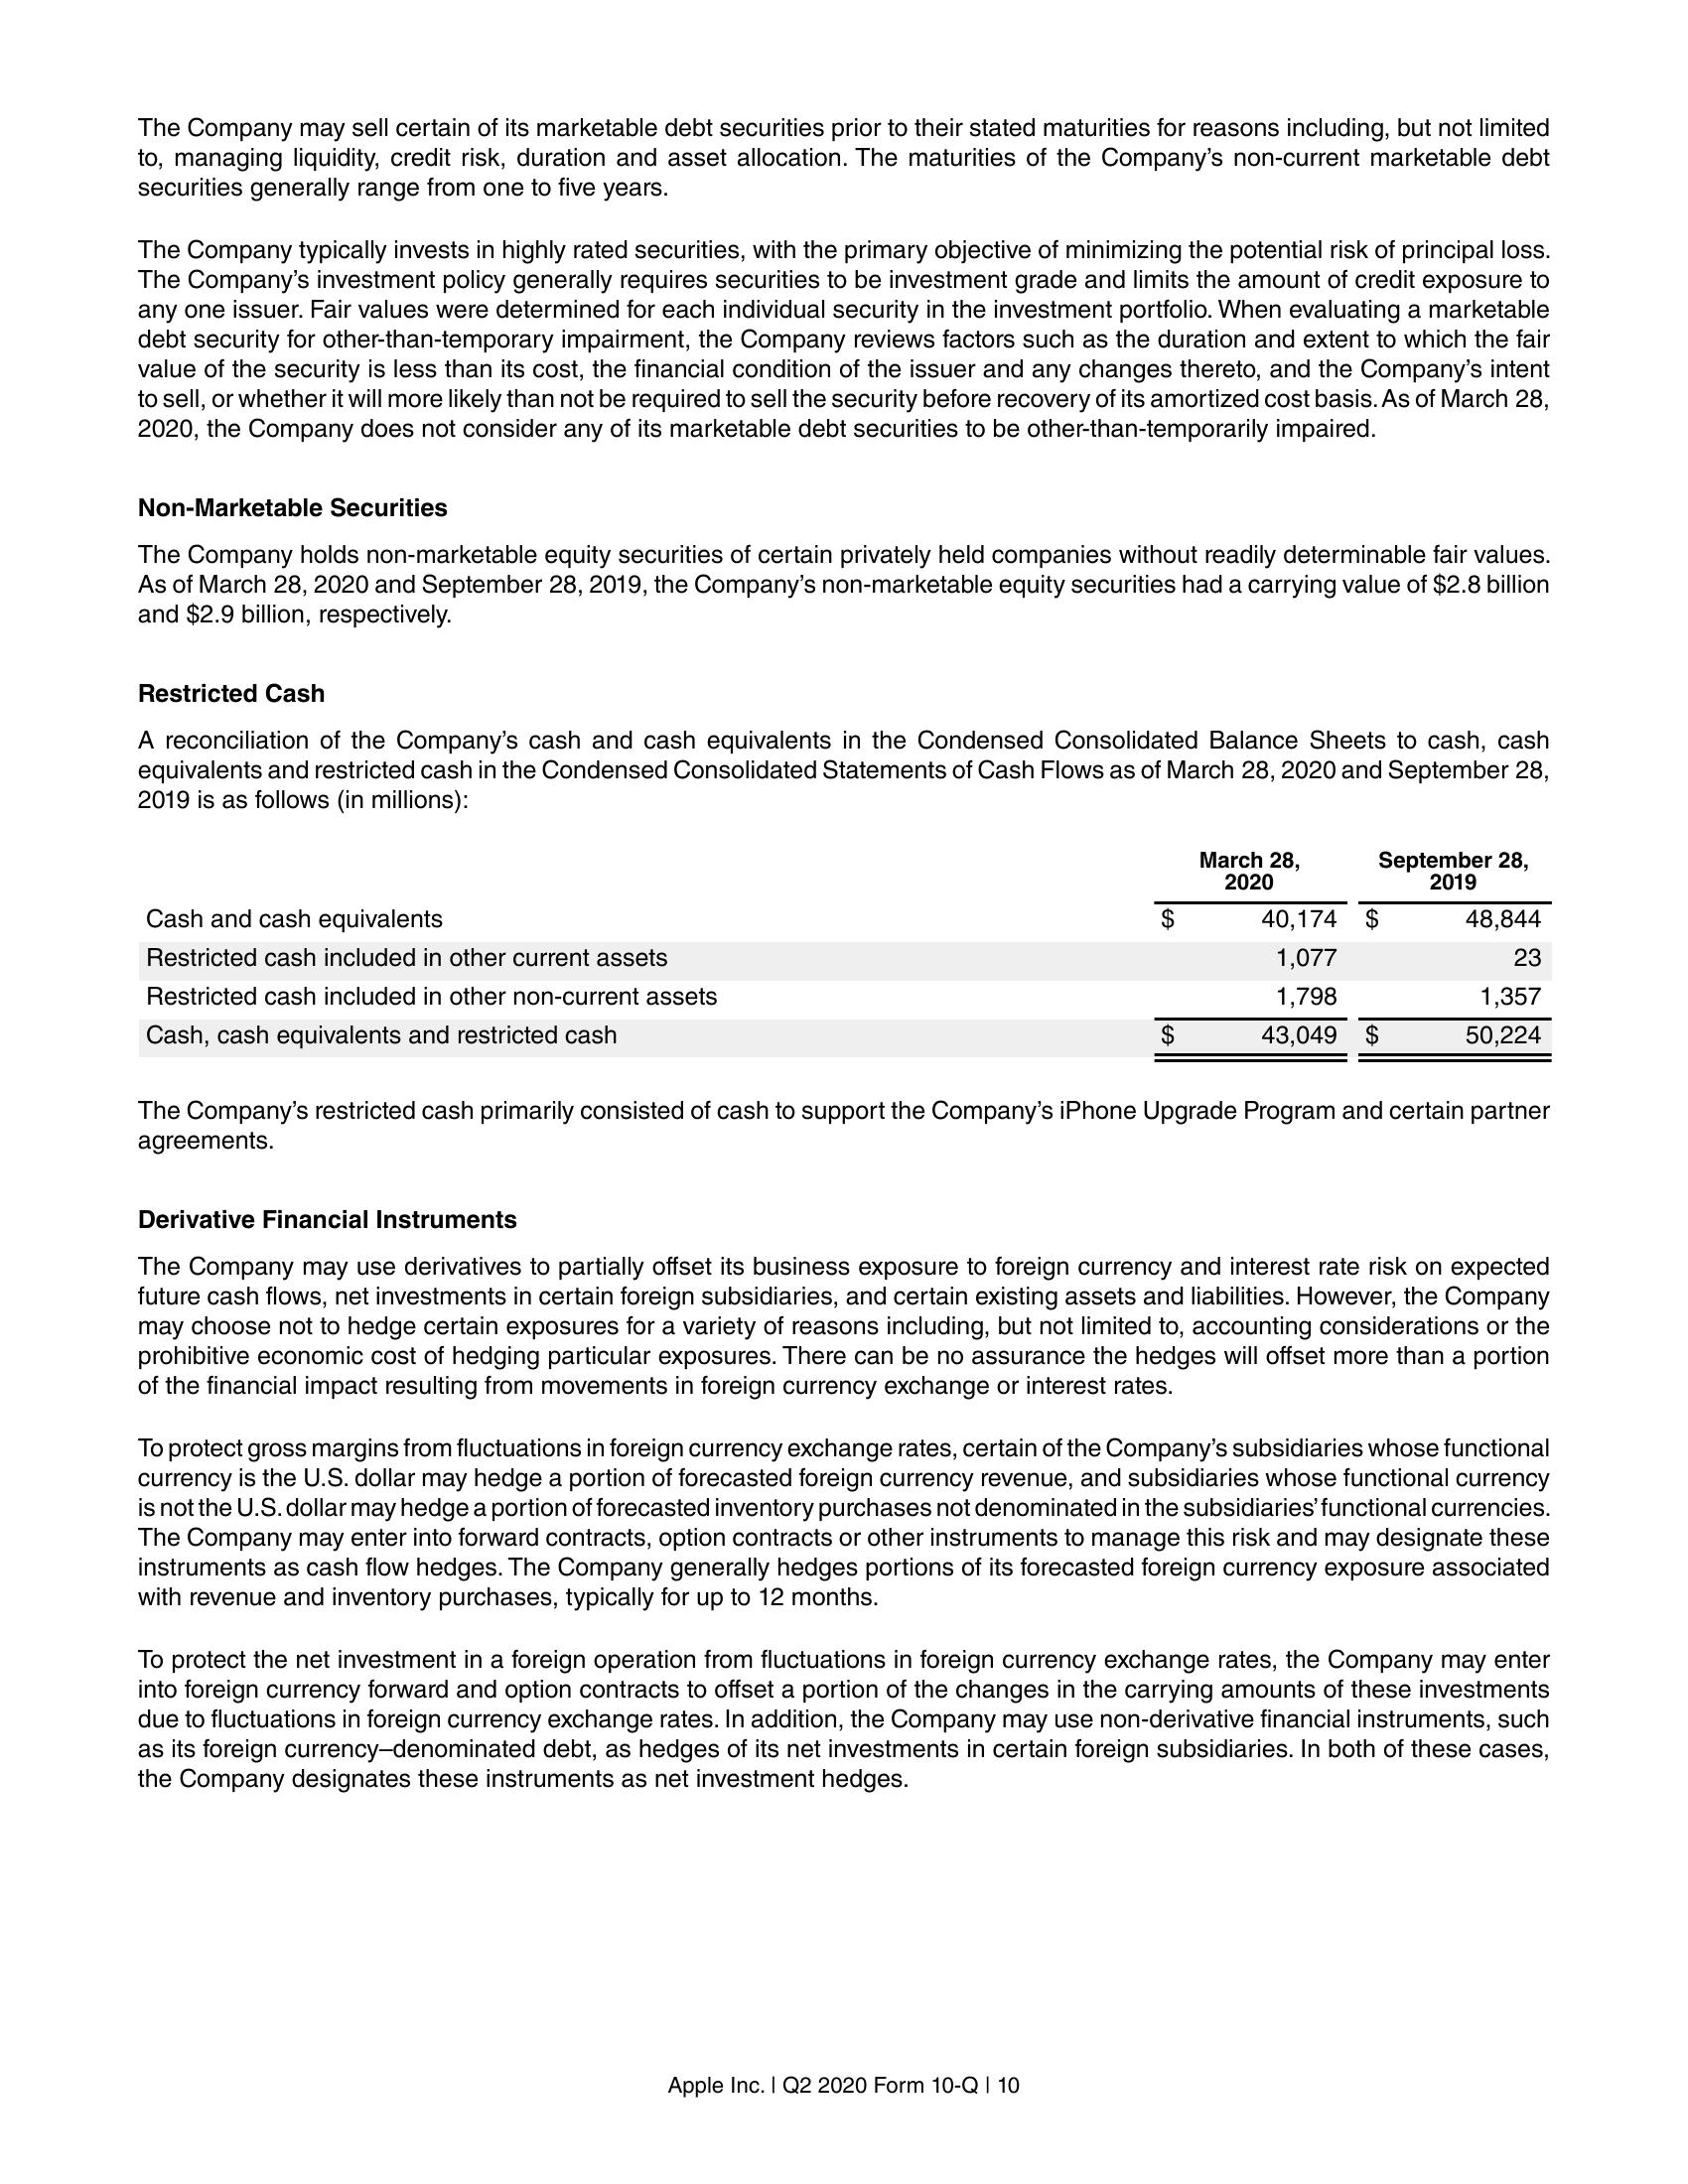table: (144, 846, 1553, 1069)
